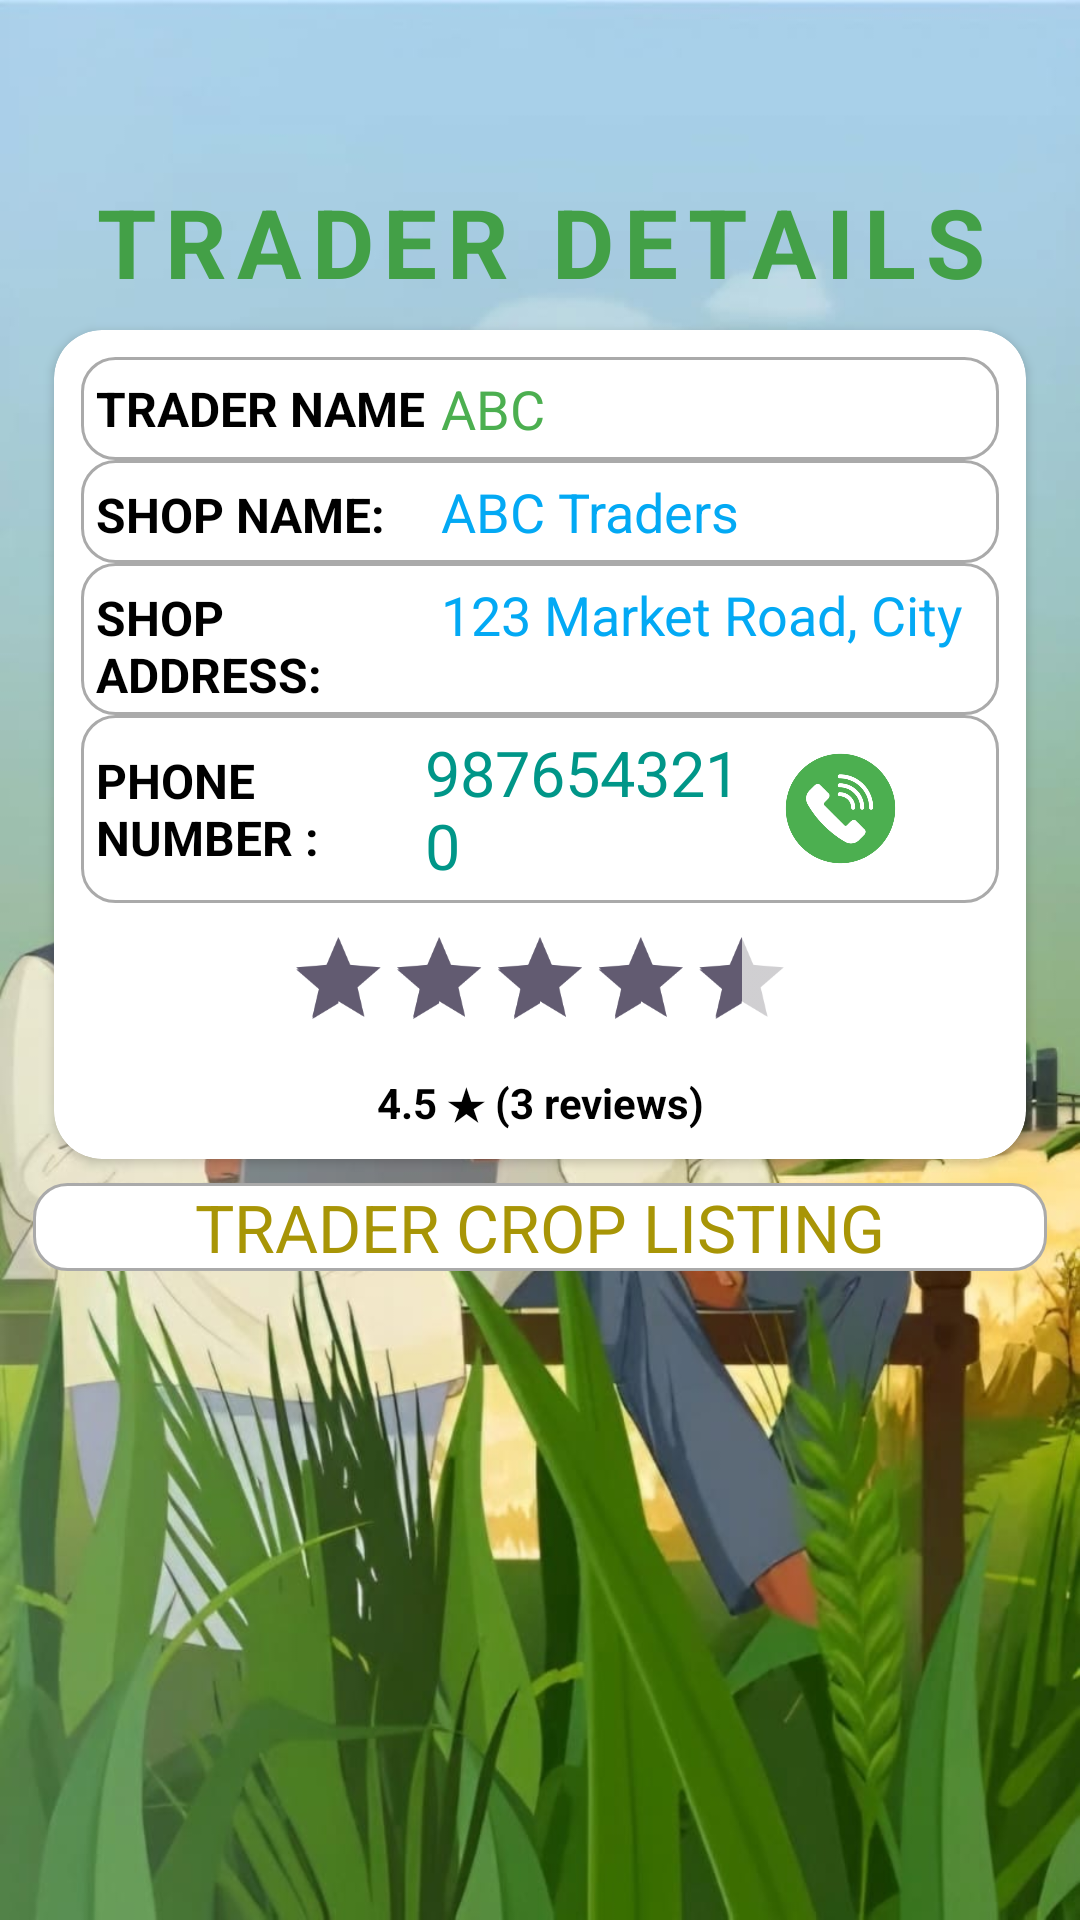

Where icons sit on this 1080 x 1920 app screen, as bbox=[x1, y1, x2, y2]:
Call Icon: bbox=[786, 754, 895, 863]
